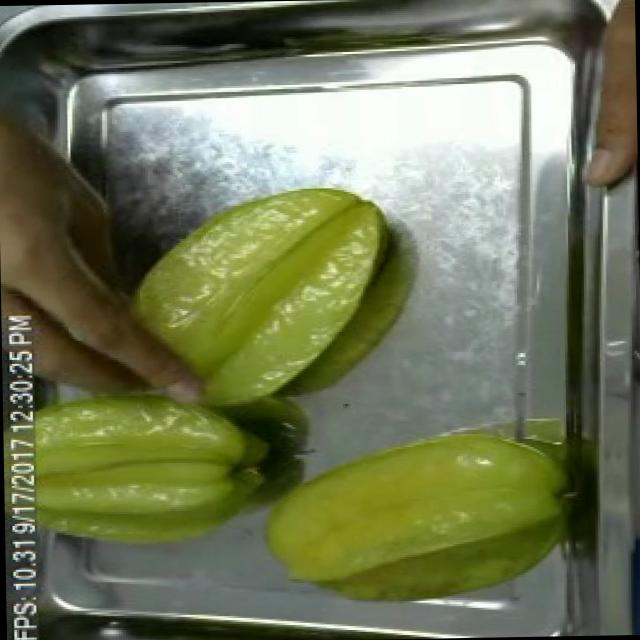fruit: (245, 416, 591, 626), (110, 176, 393, 430), (31, 371, 277, 569), (0, 77, 116, 329), (569, 0, 637, 195)
